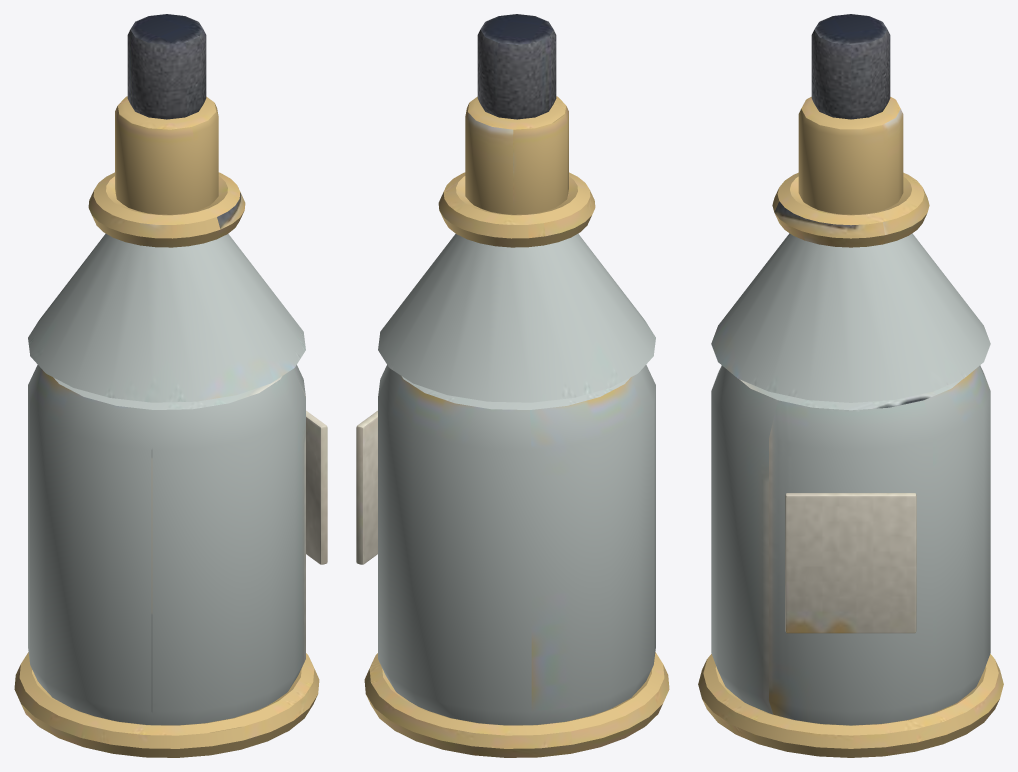
File: flask.glb
The picture shows the model from 3 angles, left to right: view 1: azimuth 30°, elevation 25°; view 2: azimuth 150°, elevation 25°; view 3: azimuth 270°, elevation 25°; orthographic projection.
Visible parts, largest first — view 1: body, shoulder, base_ring, neck, valve, collar, label; view 2: body, shoulder, base_ring, neck, valve, collar, label; view 3: body, shoulder, label, base_ring, neck, valve, collar.
Part boxes in pixels (left/top/right/bottom): body: left=28, top=365, right=305, bottom=725; shoulder: left=28, top=233, right=305, bottom=402; base_ring: left=14, top=652, right=319, bottom=757; neck: left=115, top=96, right=218, bottom=214; valve: left=127, top=14, right=206, bottom=119; collar: left=88, top=172, right=245, bottom=247; label: left=306, top=410, right=327, bottom=564; body: left=378, top=365, right=655, bottom=725; shoulder: left=378, top=233, right=655, bottom=402; base_ring: left=364, top=652, right=669, bottom=757; neck: left=465, top=96, right=568, bottom=214; valve: left=477, top=14, right=556, bottom=119; collar: left=438, top=172, right=595, bottom=247; label: left=356, top=410, right=377, bottom=564; body: left=711, top=365, right=990, bottom=725; shoulder: left=711, top=233, right=990, bottom=402; label: left=785, top=493, right=916, bottom=633; base_ring: left=698, top=654, right=1003, bottom=757; neck: left=798, top=97, right=903, bottom=214; valve: left=811, top=14, right=890, bottom=119; collar: left=772, top=172, right=929, bottom=247.
Bounding box in the file's own units: 0.07 × 0.17 × 0.07.
Materials: 1 (1 with a texture image).
